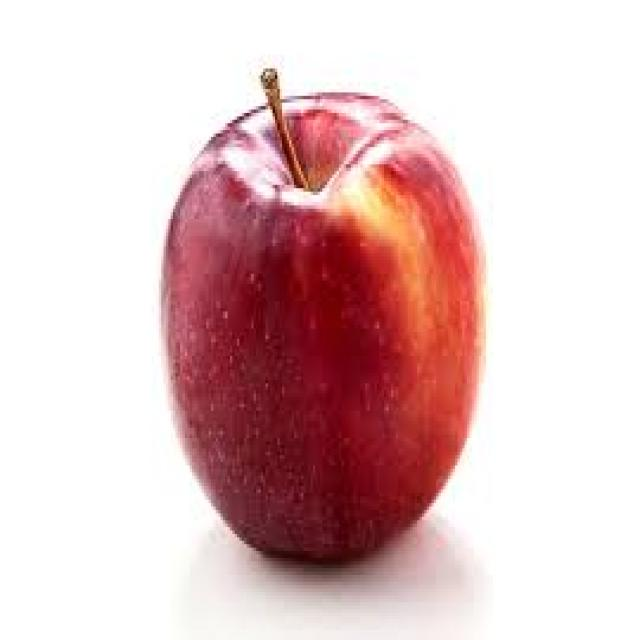Apple: (150, 98, 467, 567)
